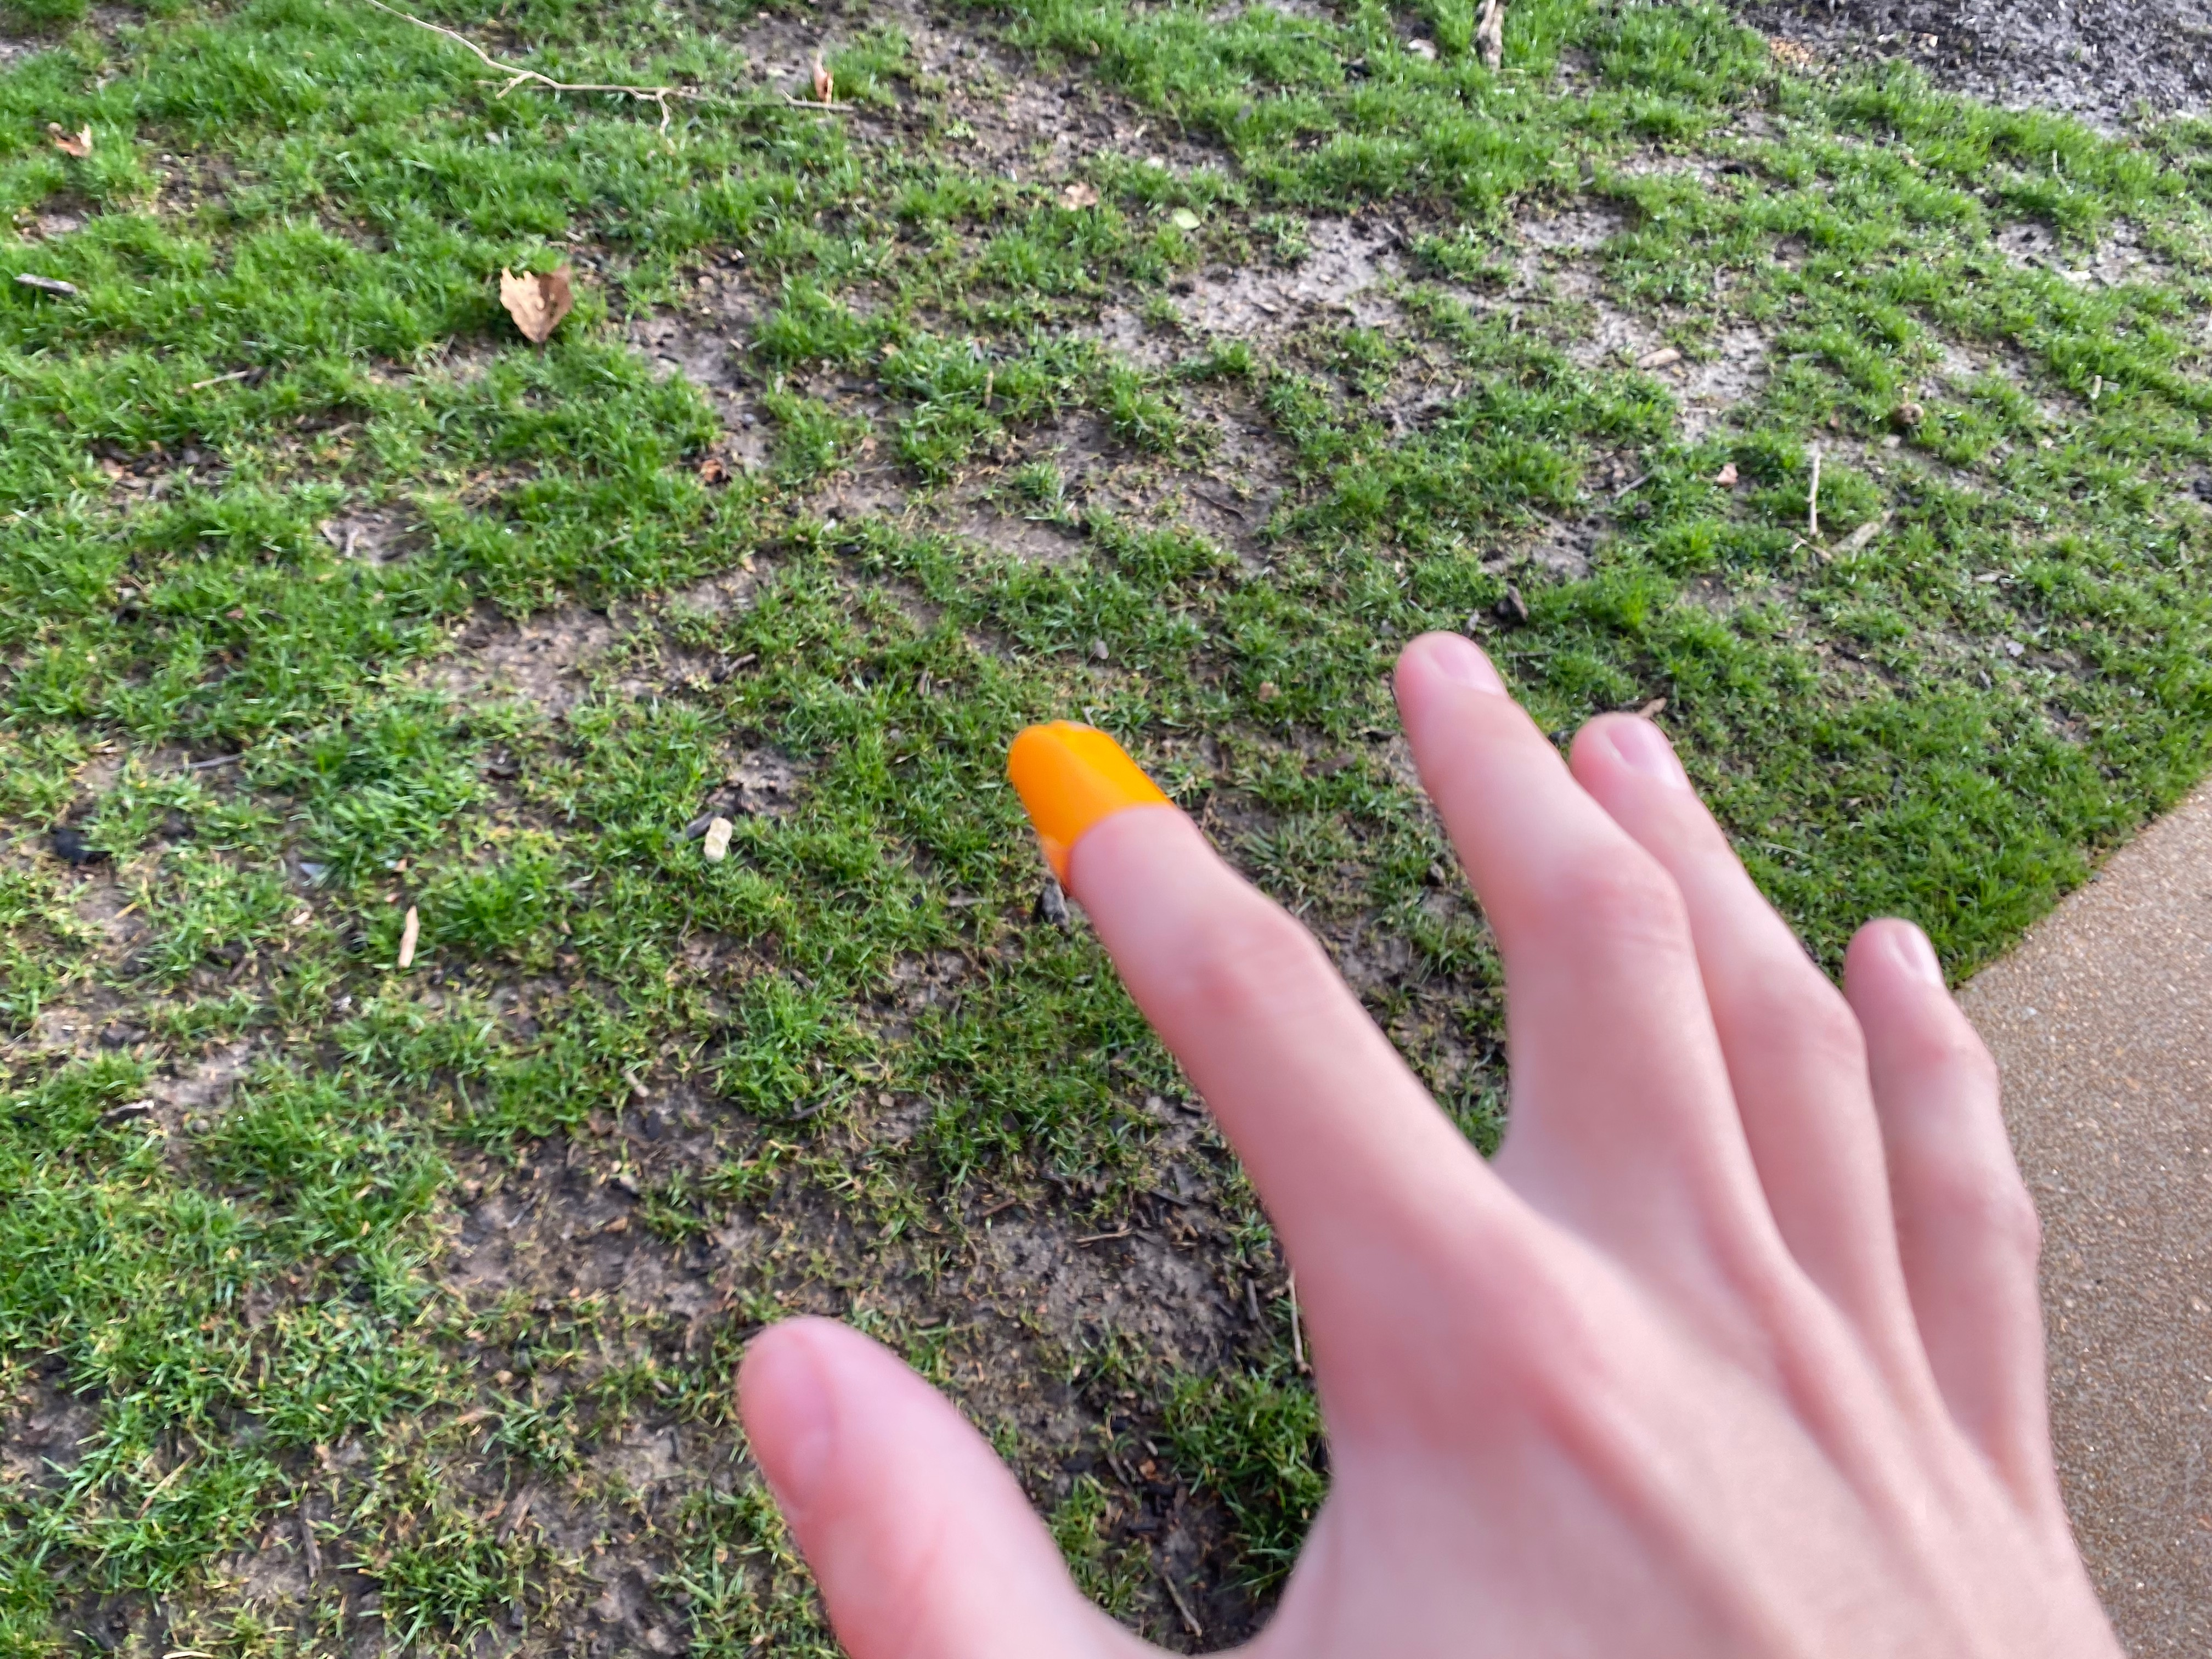fingertip: (954, 702, 1285, 911)
